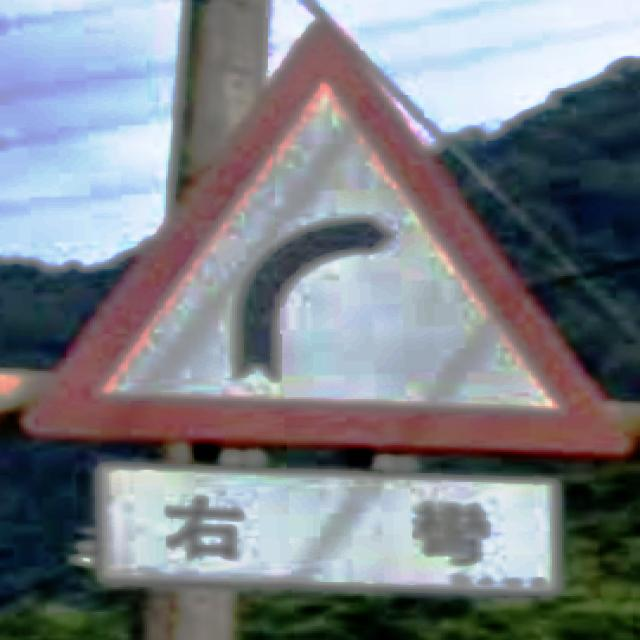rightbend: (19, 23, 635, 461)
